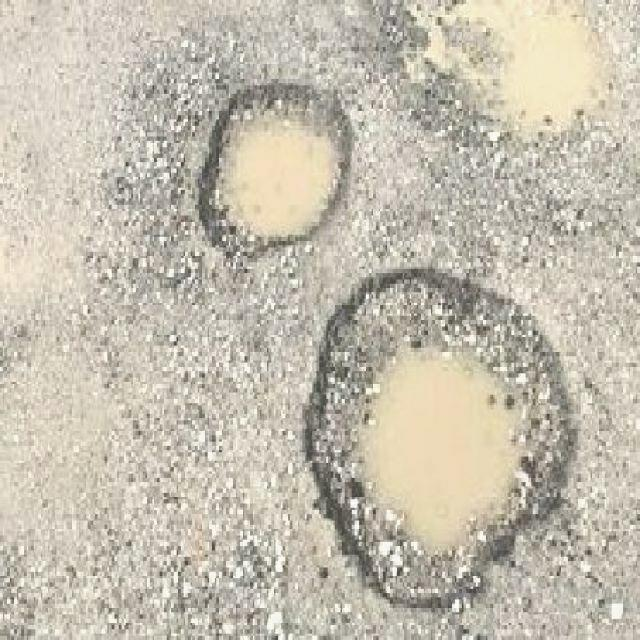Pothole: (295, 260, 583, 619), (390, 0, 620, 156), (194, 77, 357, 256)
